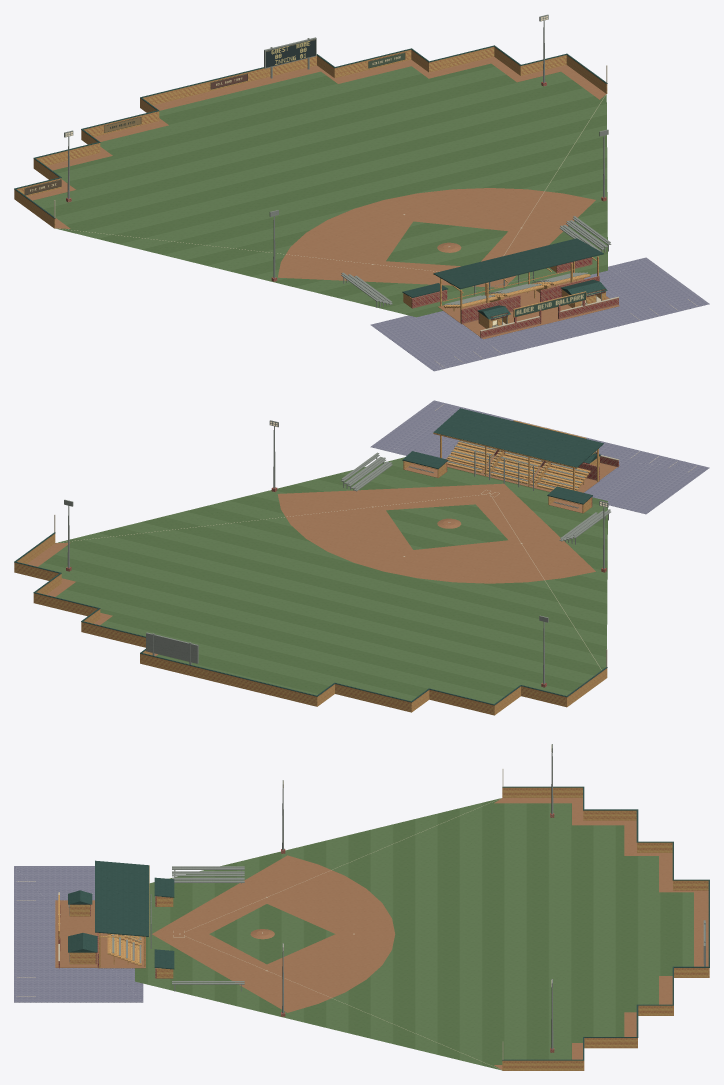
File: alder-bend-2000-far.glb
The picture shows the model from 3 angles, top to bottom: view 1: azimuth 30°, elevation 25°; view 2: azimuth 150°, elevation 25°; view 3: azimuth 270°, elevation 25°; orthographic projection.
Parts seen in each view (by area): view 1: diamond, lot, outfield_fence, grandstand, park_buildings, line_bleachers, light_towers, sign_scoreboard, sign_name; view 2: diamond, outfield_fence, grandstand, lot, park_buildings, line_bleachers, light_towers; view 3: diamond, lot, outfield_fence, grandstand, park_buildings, line_bleachers, light_towers.
Part boxes in pixels (left/top/right/bottom): diamond: left=27, top=57, right=607, bottom=317; lot: left=370, top=257, right=709, bottom=371; outfield_fence: left=14, top=37, right=607, bottom=228; grandstand: left=433, top=238, right=603, bottom=324; park_buildings: left=402, top=257, right=619, bottom=338; line_bleachers: left=341, top=216, right=611, bottom=307; light_towers: left=64, top=14, right=608, bottom=281; sign_scoreboard: left=266, top=39, right=315, bottom=67; sign_name: left=514, top=292, right=585, bottom=316; diamond: left=27, top=451, right=607, bottom=703; outfield_fence: left=14, top=514, right=607, bottom=715; grandstand: left=433, top=408, right=603, bottom=492; lot: left=370, top=400, right=709, bottom=514; park_buildings: left=402, top=420, right=618, bottom=513; line_bleachers: left=341, top=452, right=610, bottom=544; light_towers: left=64, top=420, right=608, bottom=687; diamond: left=135, top=798, right=708, bottom=1070; lot: left=14, top=866, right=143, bottom=1002; outfield_fence: left=502, top=769, right=709, bottom=1070; grandstand: left=95, top=860, right=149, bottom=968; park_buildings: left=58, top=877, right=174, bottom=978; line_bleachers: left=172, top=866, right=244, bottom=991; light_towers: left=281, top=744, right=554, bottom=1052.
Size of what is drawn, in the model's own units: 144 by 17.37 by 155.
11 materials, 11 textured.
